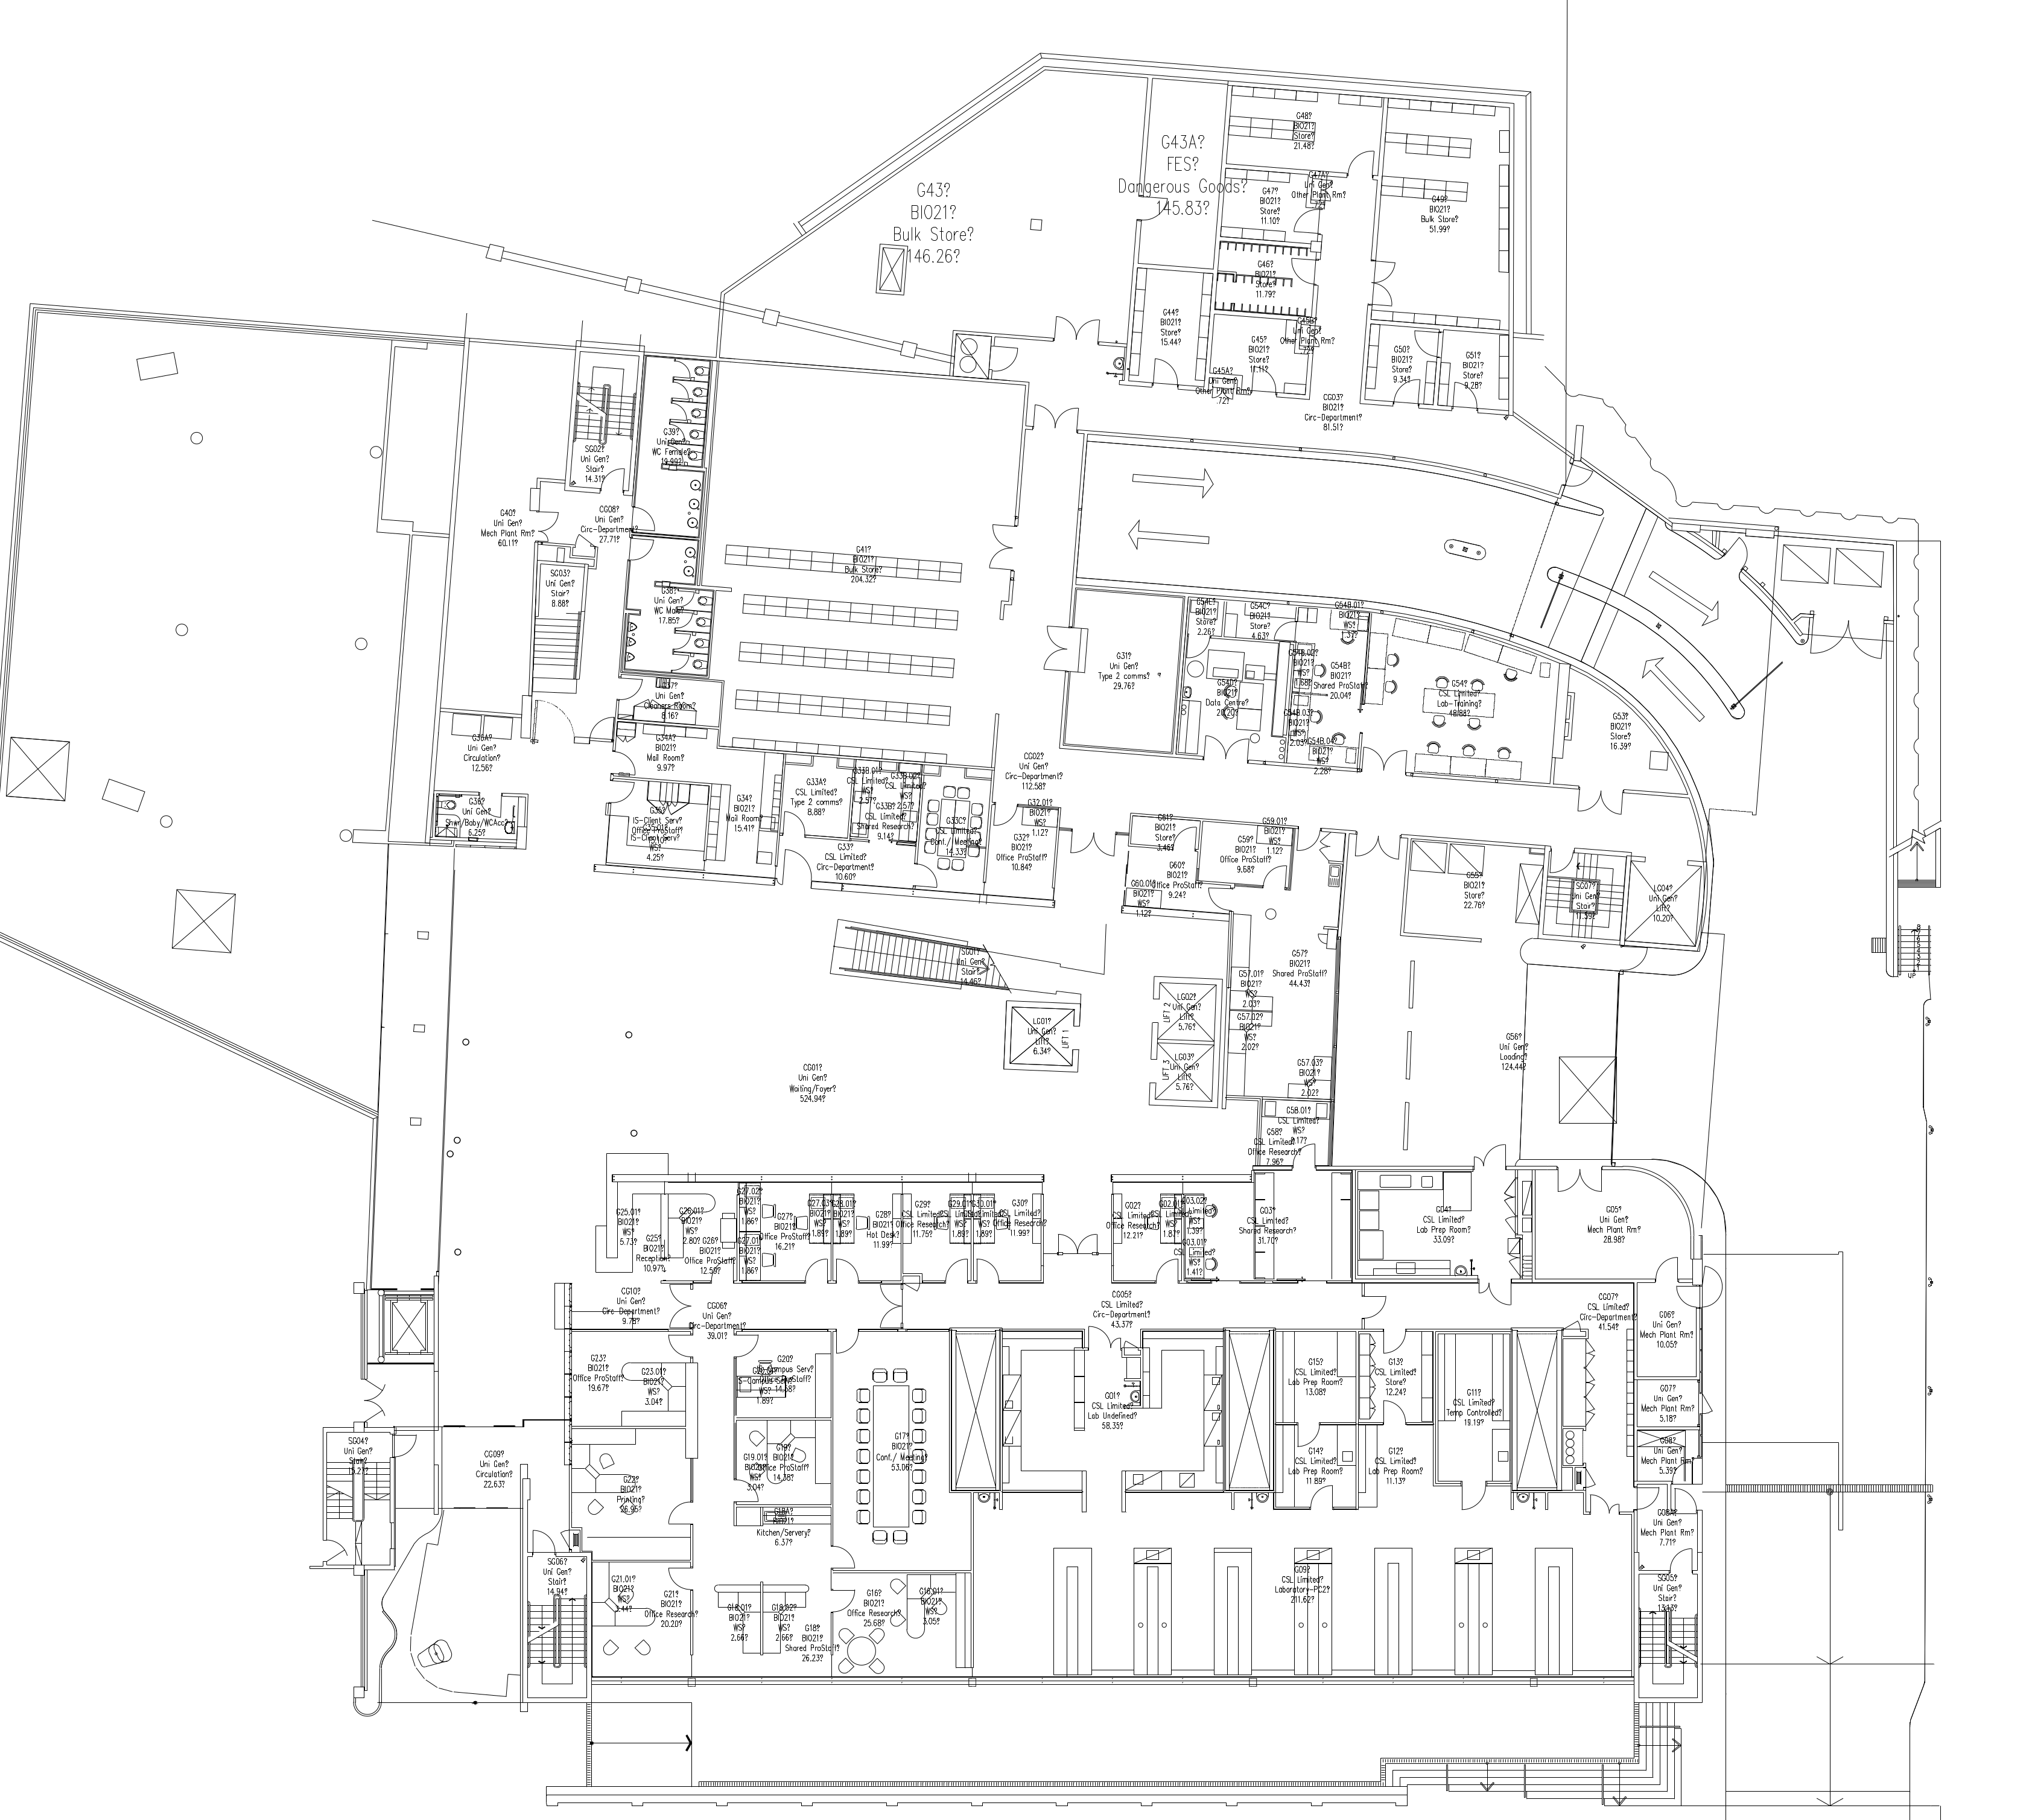text: (1110, 130, 1254, 223), (890, 176, 978, 276), (671, 1200, 736, 1277), (736, 1353, 820, 1407), (1249, 1105, 1324, 1165), (616, 1209, 673, 1277), (648, 423, 704, 485), (443, 794, 515, 841), (1424, 673, 1493, 722), (1214, 824, 1275, 878), (623, 803, 685, 857), (1005, 747, 1070, 798), (922, 808, 984, 859), (1561, 868, 1614, 926), (1310, 655, 1377, 701), (752, 1506, 815, 1553), (1231, 966, 1265, 1056), (595, 1286, 669, 1326), (1272, 940, 1328, 993), (1586, 1202, 1644, 1251), (690, 1295, 750, 1342), (474, 502, 534, 550), (1101, 648, 1161, 696), (1303, 390, 1363, 437), (580, 502, 641, 548), (1412, 1202, 1475, 1246), (1200, 669, 1254, 720), (643, 1586, 701, 1634), (817, 841, 882, 884), (1637, 1307, 1697, 1353), (1275, 1562, 1335, 1607), (1577, 1289, 1639, 1333), (1238, 1205, 1300, 1249), (787, 1058, 839, 1109), (1106, 1198, 1163, 1246), (996, 829, 1052, 877), (790, 776, 847, 824), (1287, 1354, 1345, 1400), (1639, 1435, 1698, 1479), (1092, 1288, 1154, 1330), (573, 1349, 627, 1397), (1368, 1441, 1424, 1486), (1289, 1444, 1347, 1488), (1149, 854, 1208, 896), (571, 437, 618, 490), (641, 729, 695, 775), (847, 1586, 903, 1630), (1445, 1384, 1502, 1428), (1085, 1388, 1142, 1432), (1639, 1383, 1697, 1425), (760, 1209, 813, 1254), (1159, 986, 1207, 1035), (1020, 1014, 1071, 1059), (875, 1428, 927, 1472), (1646, 1564, 1686, 1620), (1203, 360, 1250, 408), (1642, 1506, 1691, 1551), (1150, 302, 1196, 351), (1296, 167, 1345, 213), (1644, 875, 1683, 933), (945, 943, 992, 989), (792, 1621, 838, 1667), (1373, 1354, 1419, 1400), (999, 1196, 1047, 1240), (901, 1198, 948, 1242), (725, 789, 766, 840), (1605, 706, 1644, 759), (335, 1434, 378, 1481), (541, 562, 583, 610), (460, 734, 506, 776), (1243, 596, 1284, 643), (641, 685, 695, 720), (1498, 1024, 1531, 1080), (472, 1446, 516, 1488), (1161, 1051, 1203, 1094), (764, 1442, 810, 1483), (1419, 195, 1461, 235), (1291, 1052, 1324, 1103), (866, 1209, 903, 1254), (1449, 866, 1486, 912), (1252, 184, 1289, 230), (861, 806, 913, 838), (913, 1583, 948, 1629), (738, 1448, 773, 1491), (611, 1474, 646, 1516), (1187, 594, 1222, 636), (653, 583, 685, 629), (1287, 109, 1319, 155), (1250, 255, 1279, 304), (1459, 344, 1488, 394), (1247, 329, 1275, 376), (608, 1574, 639, 1614), (543, 1556, 573, 1597), (639, 1363, 666, 1409), (720, 1602, 748, 1643), (1387, 344, 1416, 385), (771, 1604, 797, 1643)
